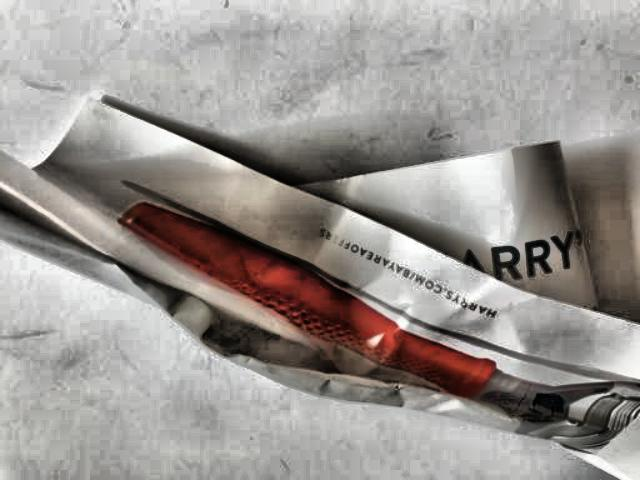Paper: (0, 94, 640, 477)
